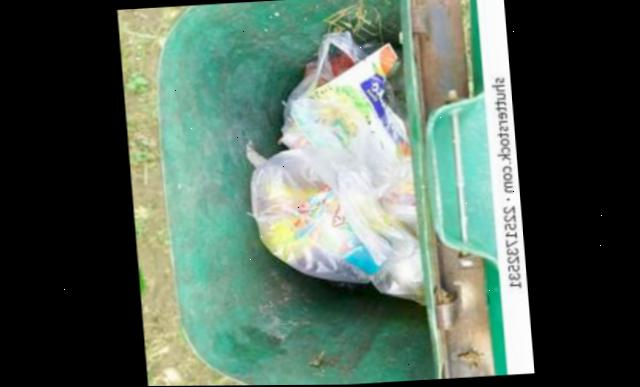Garbage: (245, 25, 424, 305)
Plastic_Bag: (246, 31, 422, 301)
contaminated_waste: (247, 23, 424, 303)
top_view_waste: (158, 0, 439, 386)
